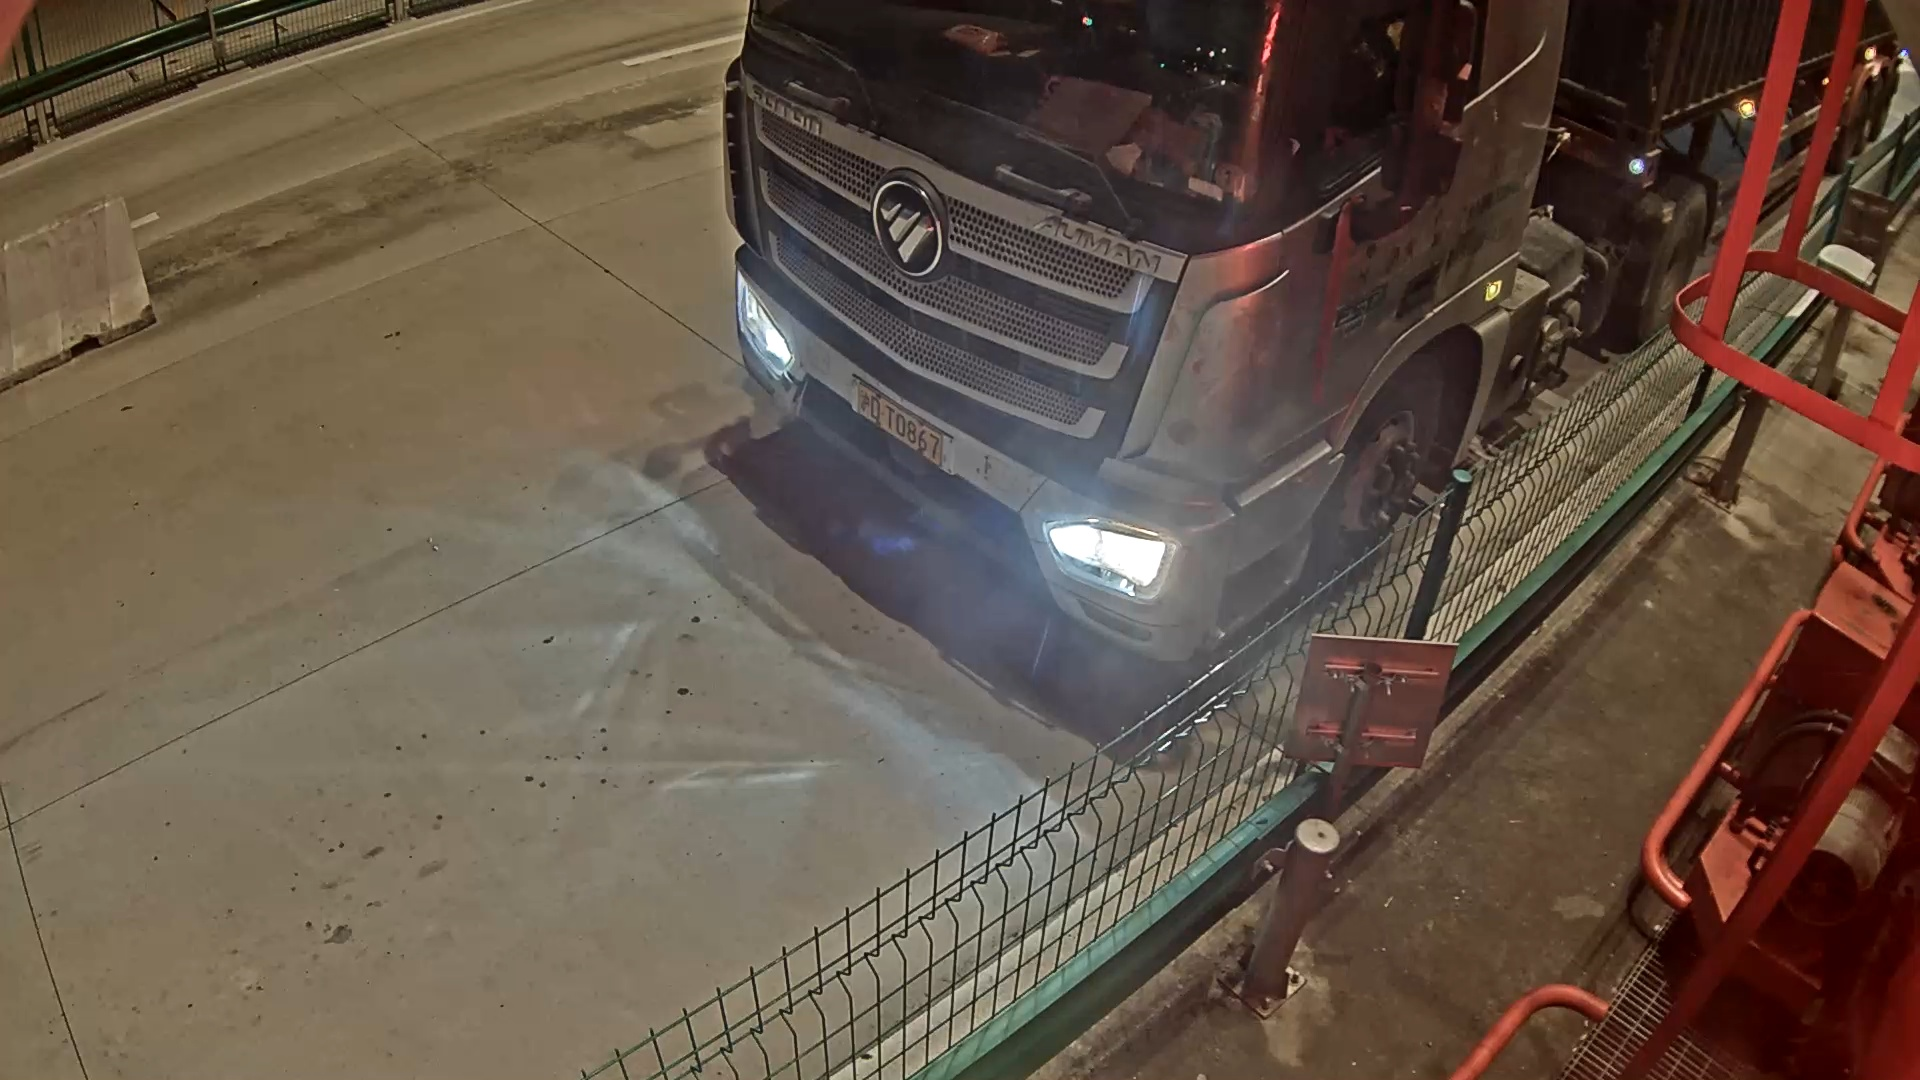head: (722, 31, 1393, 663)
plate: (862, 384, 975, 485)
